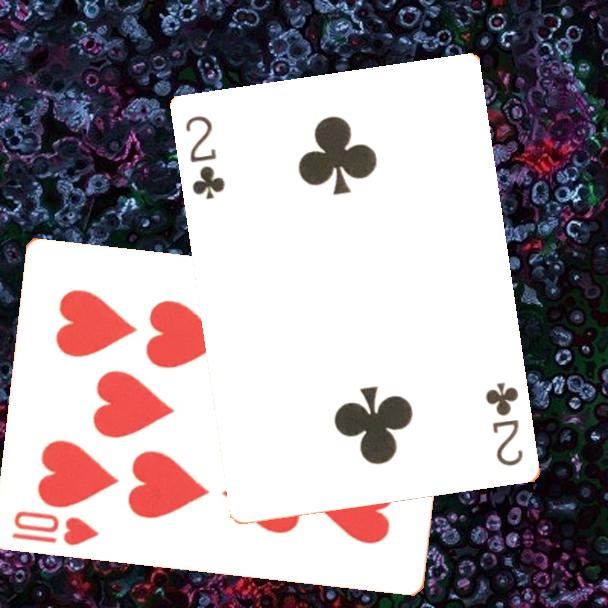c02: (182, 112, 229, 203), (482, 379, 527, 470)
h10: (8, 507, 102, 548)
